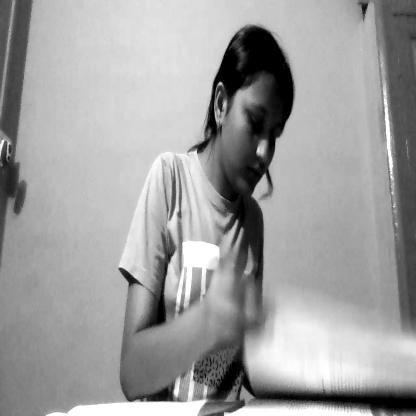Distracted: (220, 60, 288, 202)
